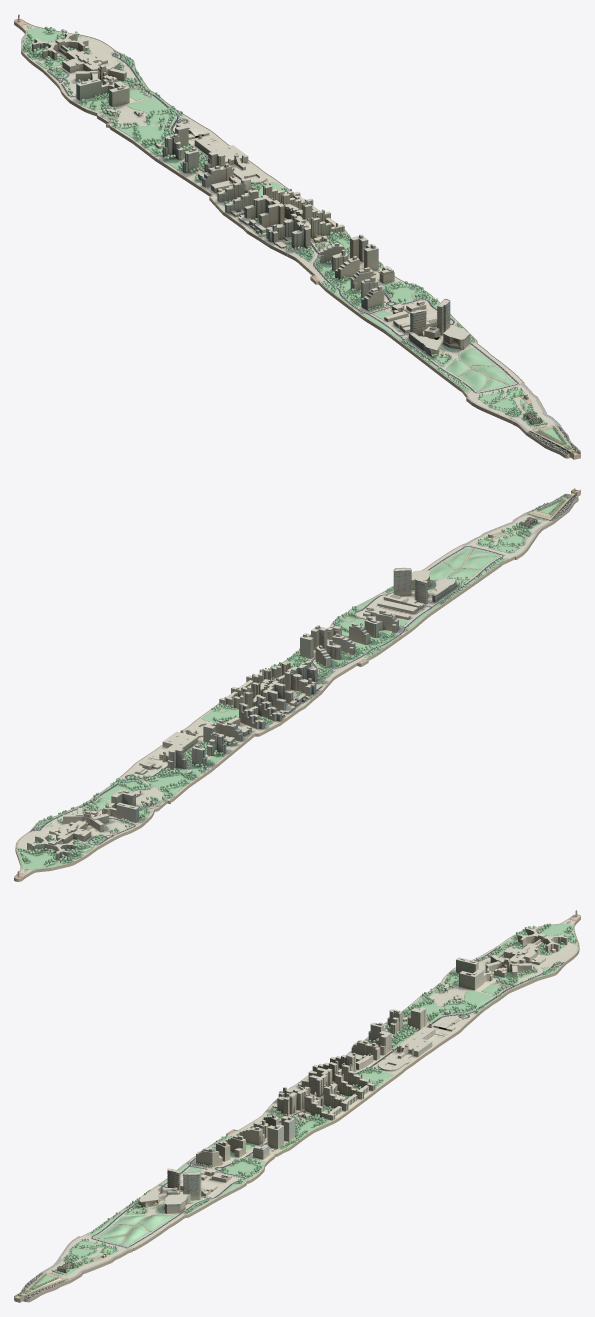
3 views of the same model, one above another, from view 1: azimuth 30°, elevation 25°; view 2: azimuth 150°, elevation 25°; view 3: azimuth 330°, elevation 25° (orthographic). The views are drawn at different scales.
Visible parts, largest first — view 1: Spline.015, Island Base.001, Cube, Building.015, Building.001, Island Wall.001, Extrude.007, Extrude.018, Building.031, Extrude.001, Sweep.008, Sweep.001; view 2: Spline.015, Island Base.001, Cube, Building.015, Island Wall.001, Building.001, Extrude.007, Extrude.018, Building.031, Sweep.008, Extrude.001, Sweep.001; view 3: Spline.015, Island Base.001, Building.015, Cube, Island Wall.001, Building.031, Extrude.007, Building.001, Extrude.018, Sweep.008, Extrude.001, Sweep.001.
Part boxes in pixels (<box>): Spline.015: <box>22,27,561,441</box>; Island Base.001: <box>21,23,555,430</box>; Cube: <box>320,234,528,399</box>; Building.015: <box>155,123,266,192</box>; Building.001: <box>217,175,310,248</box>; Island Wall.001: <box>14,19,580,458</box>; Extrude.007: <box>32,32,126,84</box>; Extrude.018: <box>408,298,469,356</box>; Building.031: <box>263,183,344,242</box>; Extrude.001: <box>38,54,143,116</box>; Sweep.008: <box>46,51,519,393</box>; Sweep.001: <box>47,51,518,393</box>; Spline.015: <box>17,502,559,870</box>; Island Base.001: <box>16,514,549,874</box>; Cube: <box>300,533,492,668</box>; Building.015: <box>134,717,251,780</box>; Island Wall.001: <box>14,496,578,881</box>; Building.001: <box>239,661,322,729</box>; Extrude.007: <box>27,808,109,860</box>; Extrude.018: <box>393,567,456,603</box>; Building.031: <box>219,662,290,708</box>; Sweep.008: <box>30,545,503,845</box>; Extrude.001: <box>82,790,151,851</box>; Sweep.001: <box>30,546,503,845</box>; Spline.015: <box>35,923,577,1286</box>; Island Base.001: <box>45,919,578,1279</box>; Building.015: <box>345,1007,460,1071</box>; Cube: <box>102,1114,294,1257</box>; Island Wall.001: <box>20,914,580,1302</box>; Building.031: <box>298,1063,375,1120</box>; Extrude.007: <box>485,926,567,978</box>; Building.001: <box>272,1053,355,1116</box>; Extrude.018: <box>138,1168,201,1213</box>; Sweep.008: <box>91,948,564,1247</box>; Extrude.001: <box>443,941,563,1000</box>; Sweep.001: <box>91,948,564,1247</box>.
Bounding box in the file's own units: 7.98 × 2.46 × 84.15.
30 materials, 14 textured.
